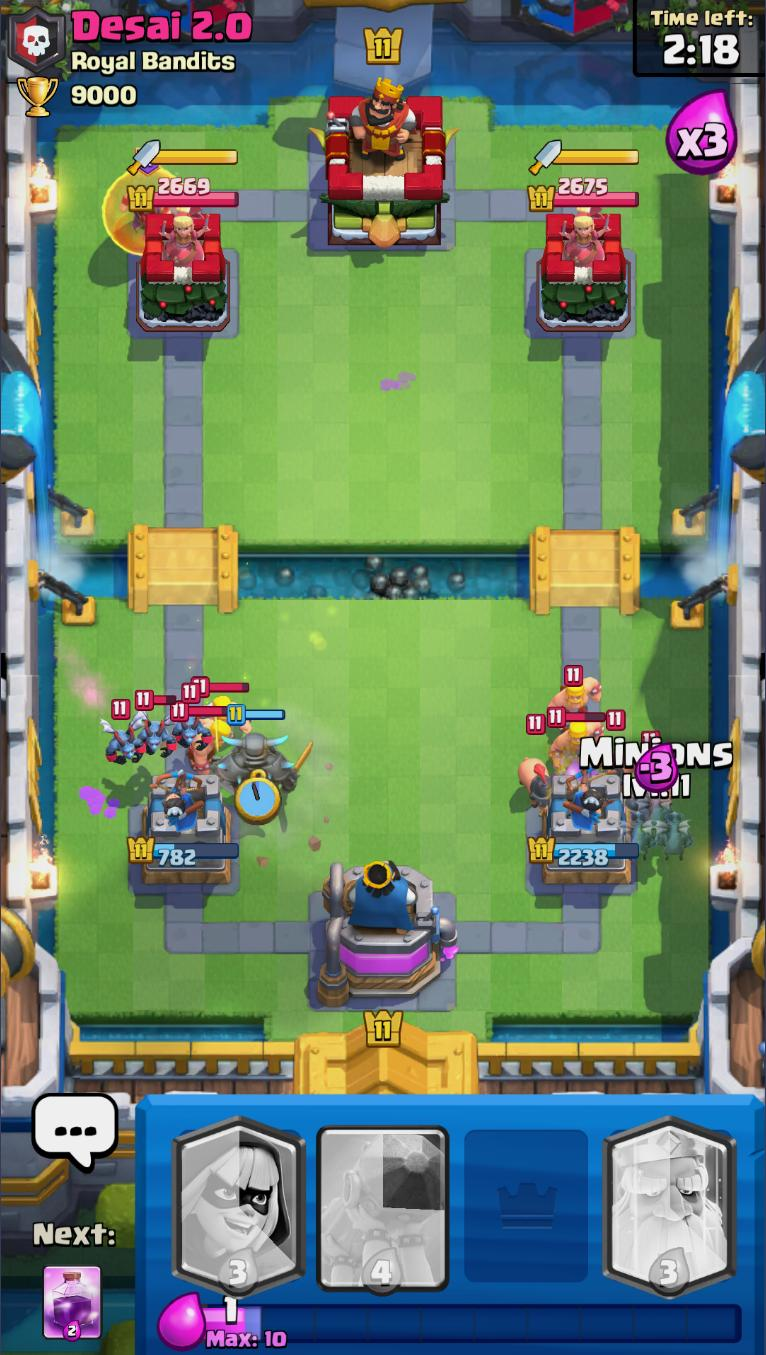BanditDeck: (166, 1096, 311, 1294)
Barbarian: (189, 674, 259, 739), (171, 703, 231, 770), (544, 664, 606, 724), (546, 706, 609, 764)
BattleRamDeck: (313, 1099, 451, 1297)
DaggerDuchess: (157, 206, 210, 266), (557, 206, 611, 264)
Daggers: (126, 140, 240, 176), (531, 139, 640, 173)
Elixir: (203, 1294, 744, 1351)
Empty: (454, 1096, 600, 1296)
EnemyTower: (136, 214, 234, 334), (539, 211, 633, 333)
EvoWizard: (103, 144, 189, 259)
KingTower: (320, 74, 451, 251)
Minion: (130, 689, 174, 760), (171, 681, 211, 753), (104, 699, 144, 766)
MyKingTower: (314, 859, 460, 1011)
MyPekka: (211, 704, 313, 791)
MyPrincessTower: (124, 770, 240, 893), (527, 771, 641, 889)
MyPrincessTowerHP: (126, 837, 240, 866), (526, 837, 640, 866)
RageNext: (41, 1264, 103, 1343)
RoyaleGhostDeck: (597, 1094, 741, 1299)
RoyalePig: (516, 713, 557, 810)
TowerPrincessHP: (127, 174, 240, 210), (530, 176, 641, 210)
